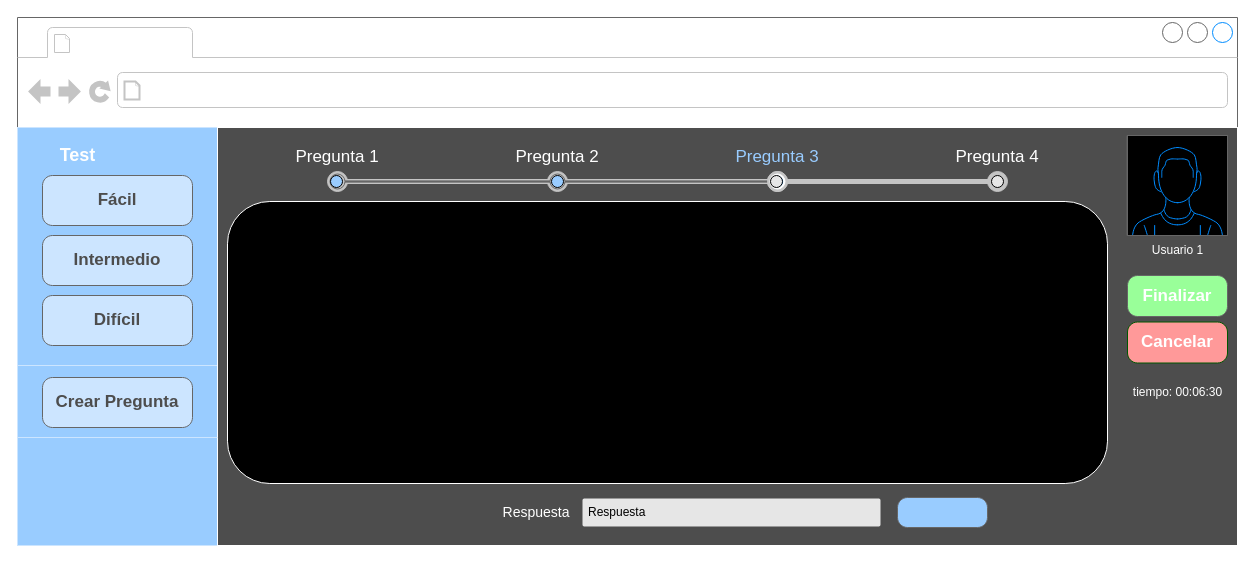
The diagram is 1255 pixels wide and 563 high, and some of its shapes have lost their labels. The shapes that lost their labels are listed below. From the top down, each one's centre as x and y in pixels, then its label:
At [132,44]: "Inicio".
At [272,88]: "https://www.programmingpython.com".
At [667,342]: "PREGUNTA".
At [942,512]: "Siguiente".
